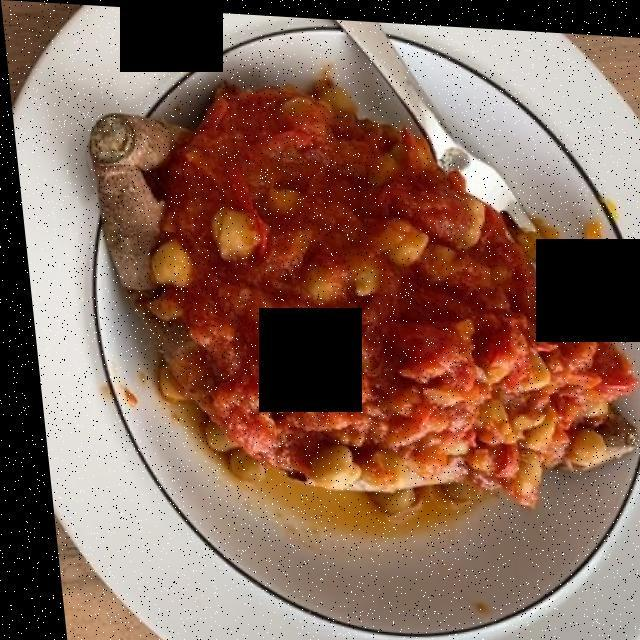sweet-potato: (121, 84, 613, 507)
tomato-sauce: (173, 69, 639, 463)
